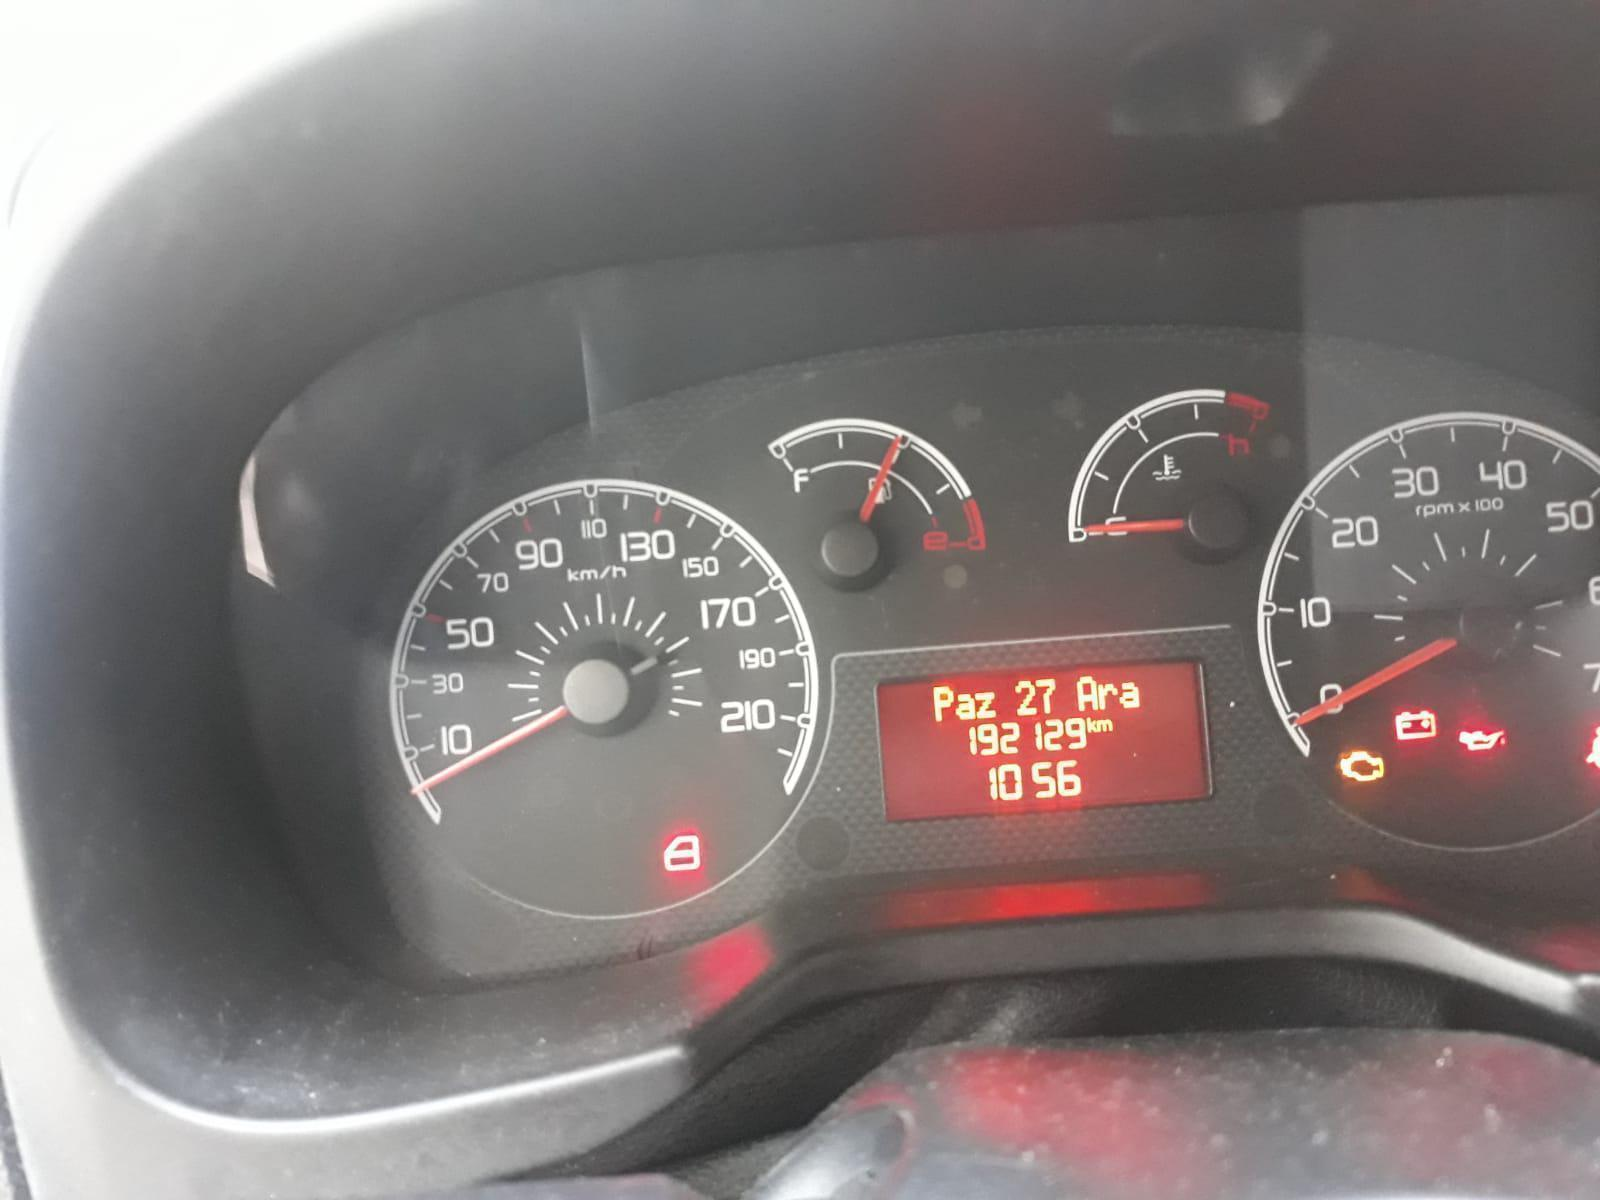0: (997, 763, 1024, 802)
1: (985, 763, 998, 800), (1031, 720, 1044, 754), (966, 722, 978, 756)
2: (1015, 678, 1036, 717), (1002, 718, 1022, 755), (1044, 717, 1062, 749)
5: (1031, 760, 1058, 800)
6: (1054, 759, 1083, 797)
7: (1036, 677, 1058, 712)
9: (1065, 716, 1087, 750), (976, 724, 999, 756)
X: (931, 682, 954, 722), (1073, 674, 1099, 710), (1117, 679, 1141, 708), (975, 689, 998, 718), (1097, 681, 1119, 710), (956, 691, 976, 720), (1086, 715, 1099, 734), (1097, 718, 1114, 732)
odometer: (872, 645, 1216, 818)
